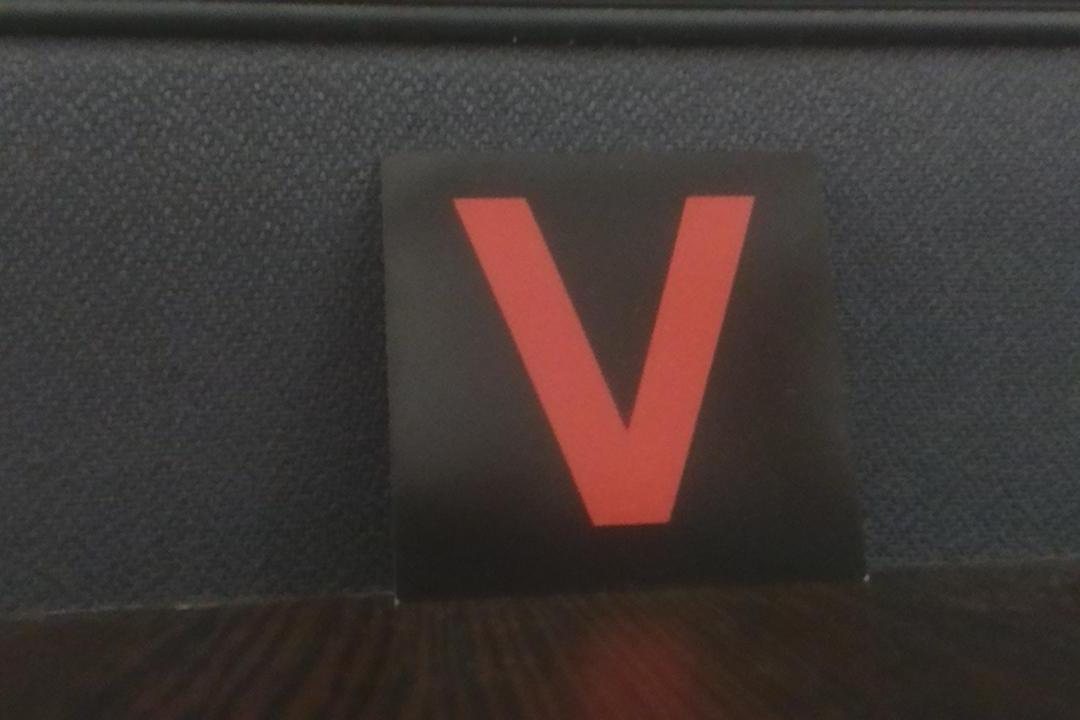v: (381, 150, 872, 582)
